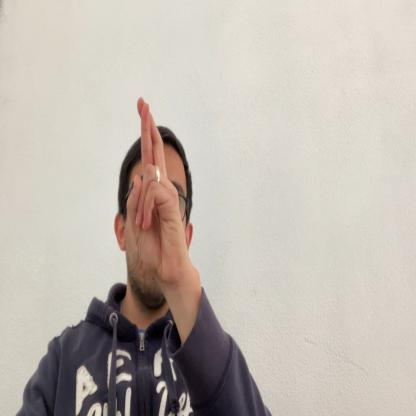R: (129, 95, 185, 282)
